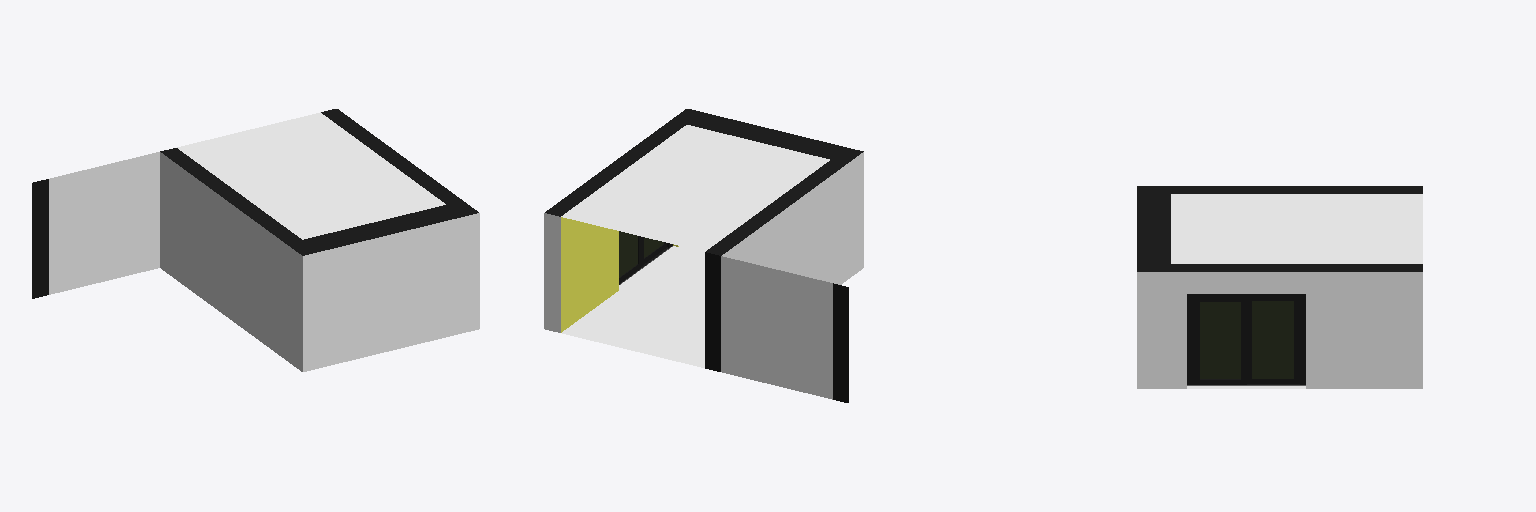
Rendered from kitchen.obj.
The picture shows the model from 3 angles: view 1: azimuth 30°, elevation 25°; view 2: azimuth 150°, elevation 25°; view 3: azimuth 270°, elevation 25°; orthographic projection.
Visible parts, largest first — view 1: Layer0_001, Layer1_001; view 2: Layer0_001, Layer1_001; view 3: Layer1_001, Layer0_001.
Boxes of the visible parts, <box> form: Layer0_001: <box>32,112,479,371</box>; Layer1_001: <box>160,109,478,255</box>; Layer0_001: <box>561,125,863,402</box>; Layer1_001: <box>544,109,863,371</box>; Layer1_001: <box>1137,186,1422,388</box>; Layer0_001: <box>1171,194,1422,384</box>.
Bounding box in the file's own units: 291 × 106 × 236.